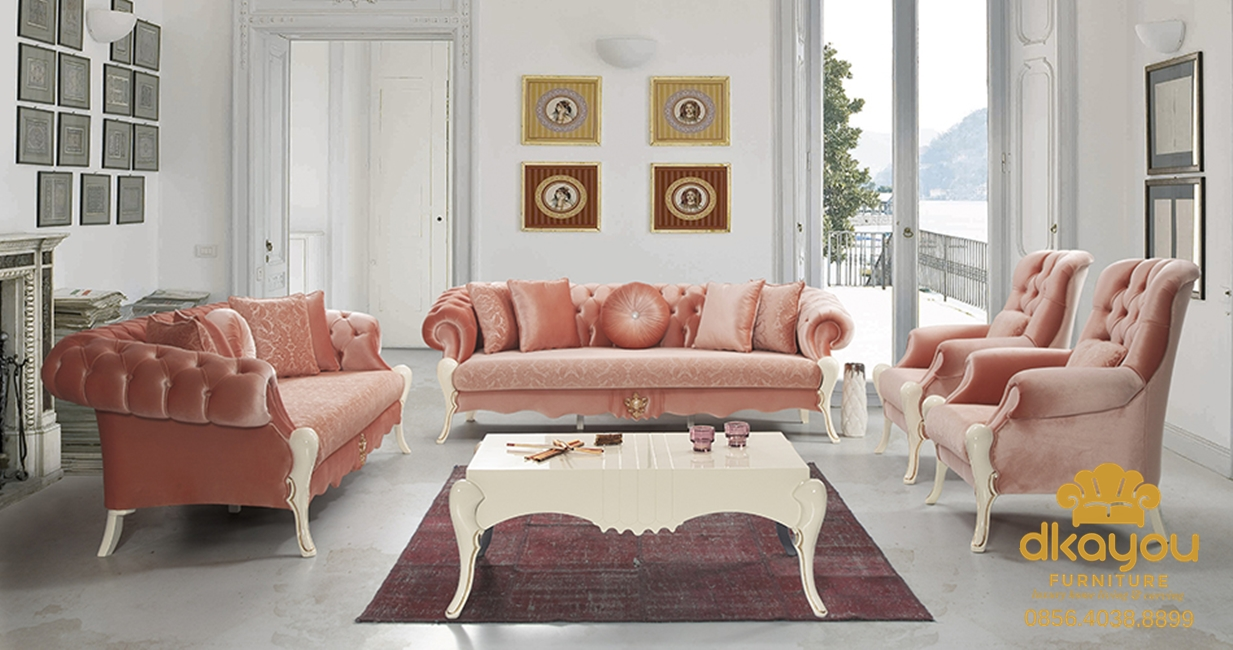bantal: (511, 278, 581, 352), (694, 280, 755, 351), (470, 280, 520, 352), (755, 278, 798, 353)
gelas: (685, 422, 716, 455), (724, 421, 752, 452)
kursi: (949, 256, 1204, 549), (873, 247, 1100, 454)
lukisan: (515, 69, 606, 152), (647, 70, 737, 152), (643, 161, 734, 237), (516, 160, 607, 233)
meja: (446, 423, 828, 619)
sova: (52, 289, 418, 578), (426, 275, 855, 446)
tanaman: (821, 40, 879, 268)
